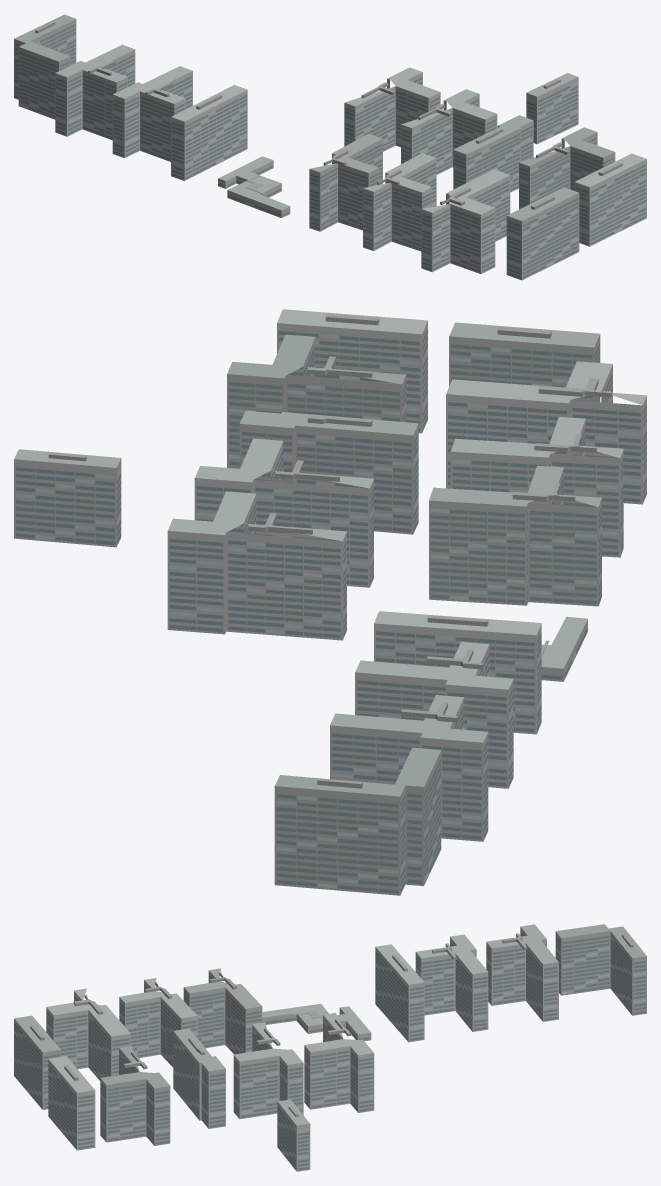
File: apt-a13986504.glb
3 views of the same model, one above another, from view 1: azimuth 30°, elevation 25°; view 2: azimuth 150°, elevation 25°; view 3: azimuth 270°, elevation 25° (orthographic). The views are drawn at different scales.
Visible parts, largest first — view 1: apt-a13986504; view 2: apt-a13986504; view 3: apt-a13986504.
Boxes of the visible parts, x1=… form: apt-a13986504: x1=14, y1=14, x2=646, y2=280; apt-a13986504: x1=14, y1=309, x2=646, y2=895; apt-a13986504: x1=14, y1=924, x2=646, y2=1171.
Size of the model in its own units: 323 by 47.81 by 455.
